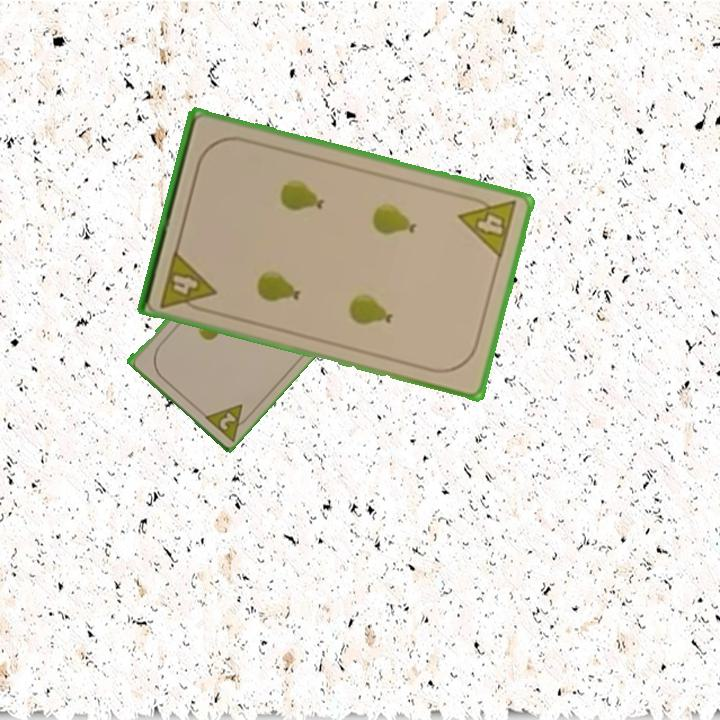2p: (199, 400, 256, 443)
4p: (455, 190, 520, 262), (156, 246, 219, 316)
